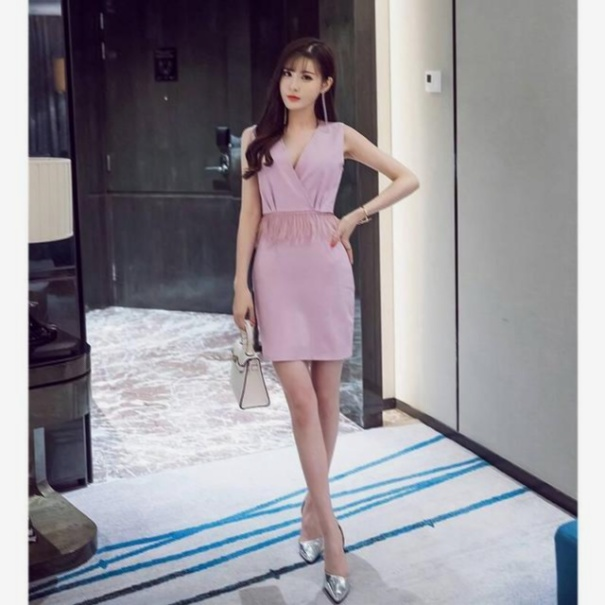Miniskirt: (250, 214, 356, 527)
Sleeveless: (330, 121, 361, 151), (239, 122, 262, 156)
low_neckline: (252, 114, 344, 213)
